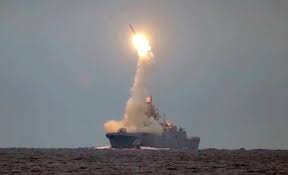ten_lua: (125, 19, 148, 46)
